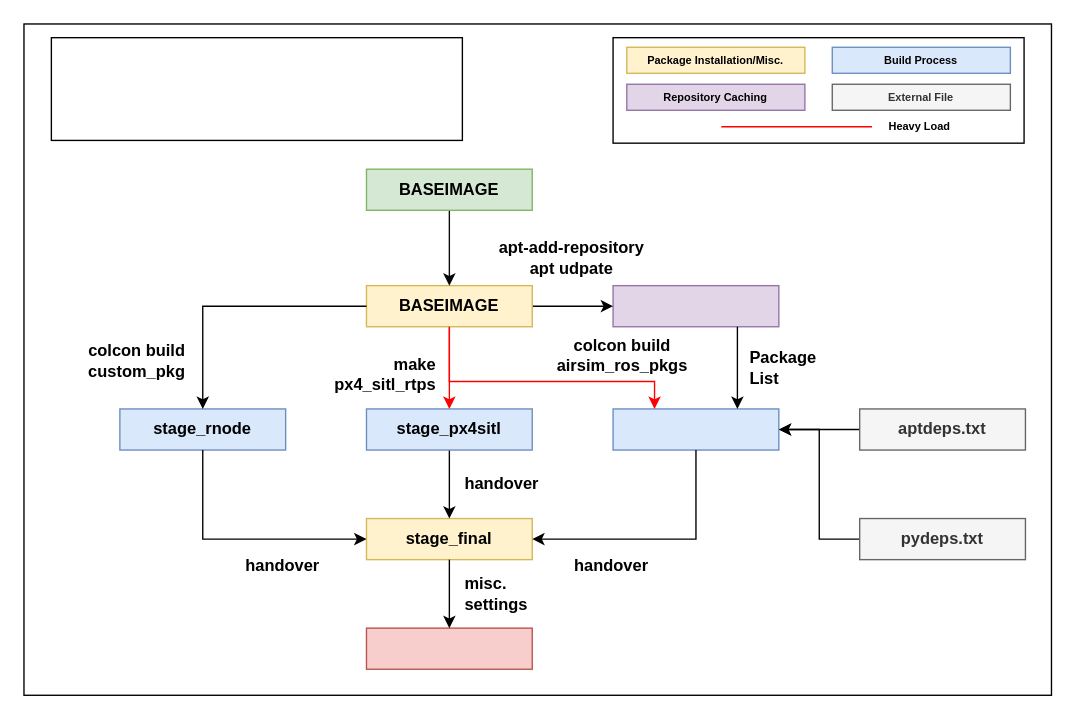
This 1075x719 diagram has some shape labels left out. Here are the shapes that lost their labels. From the top down, the centre of each, then its label:
(x=256, y=88): acsldocker/px4:airsim Multi-Stage Build Workflow Block Diagram Rev. 20220720A
(x=695, y=305): stage_apt
(x=695, y=429): stage_airsim
(x=448, y=648): OUTPUT
